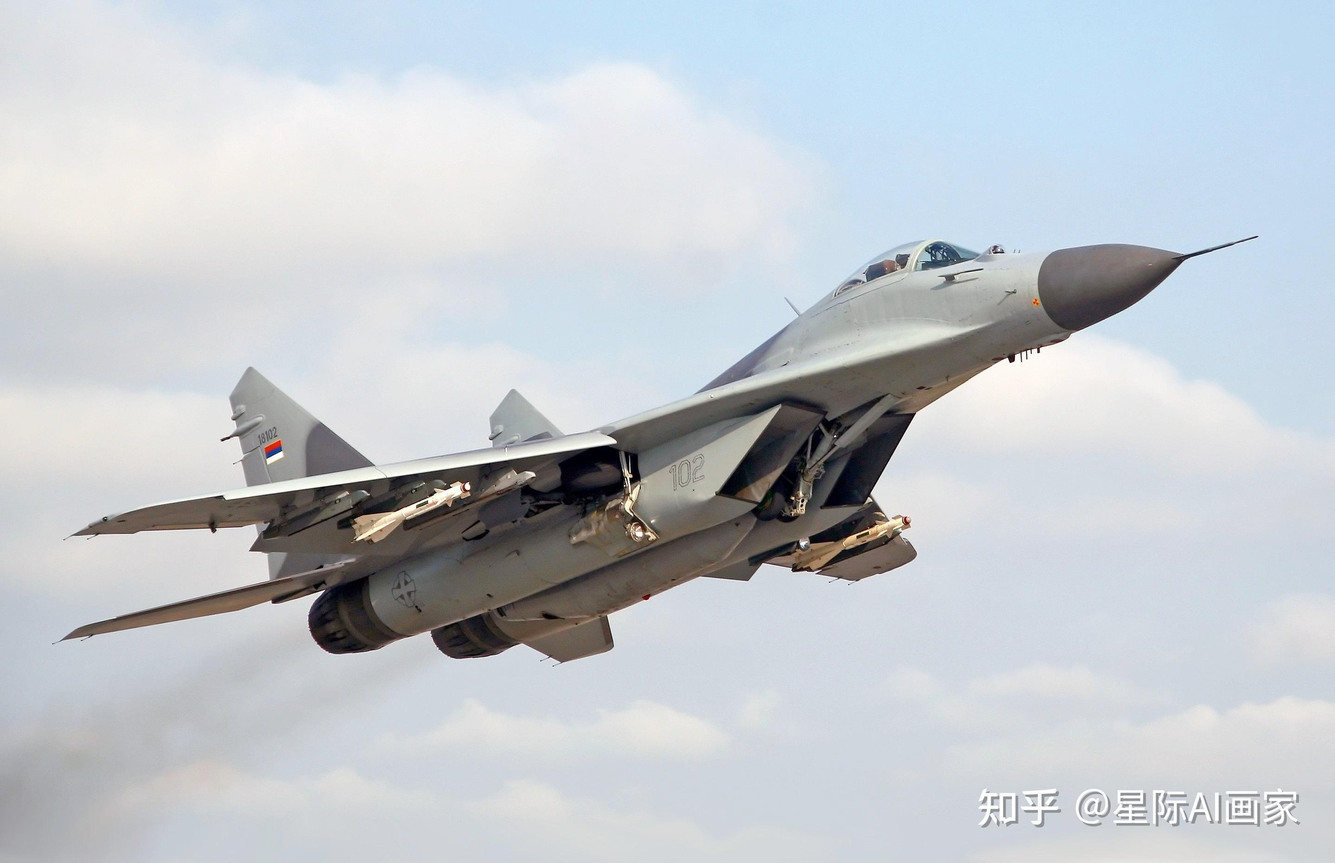aircraft: (62, 237, 1277, 666)
